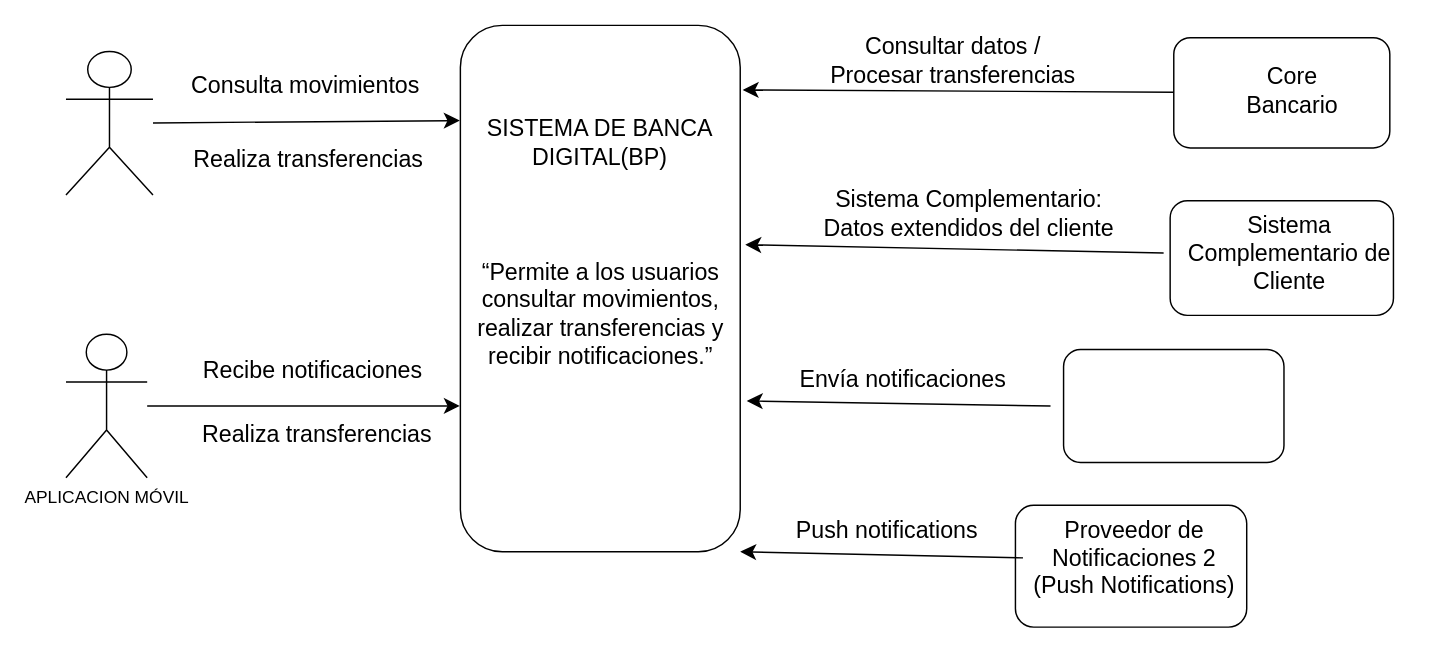
Some shapes in this 1441 by 653 pixel diagram are drawn without their labels. Here are the shapes that lost their labels. From the top down, the centre of each, then its label:
At point (109, 122): "USUARIO WEB".
At point (1173, 405): "Proveedor de Notificaciones 1 (Email/SMS)".
